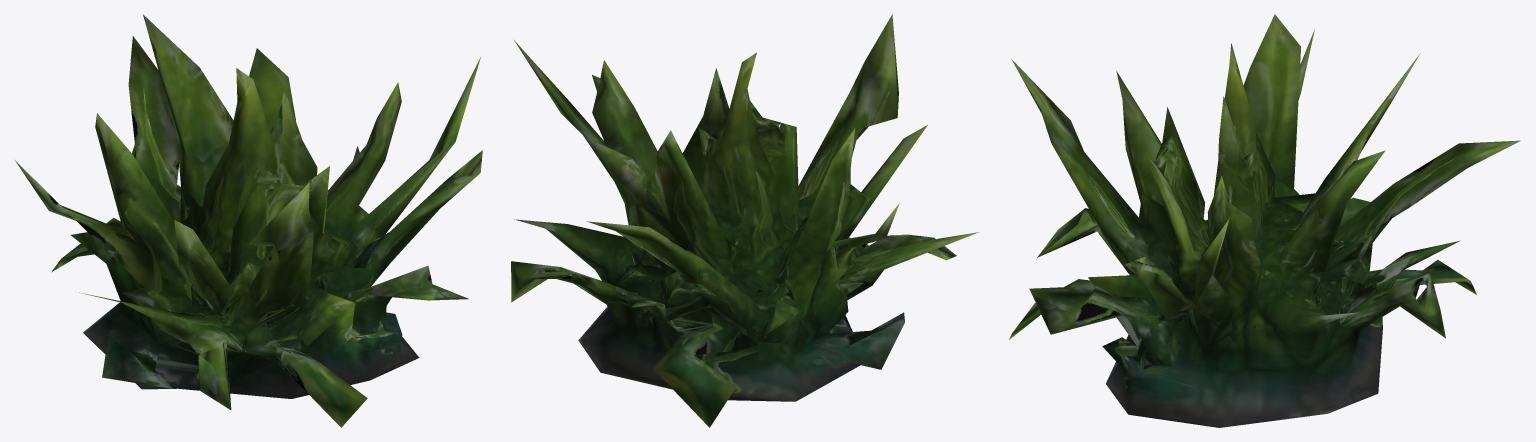
The model's file is grass_01.glb.
The picture shows the model from 3 angles, left to right: view 1: azimuth 30°, elevation 25°; view 2: azimuth 150°, elevation 25°; view 3: azimuth 270°, elevation 25°; orthographic projection. The views are drawn at different scales.
Parts seen in each view (by area): view 1: mesh; view 2: mesh; view 3: mesh.
Part boxes in pixels (left/top/right/bottom): mesh: left=15, top=14, right=482, bottom=427; mesh: left=511, top=14, right=979, bottom=427; mesh: left=1009, top=14, right=1520, bottom=427.
Size of the model in its own units: 0.9931 by 0.6435 by 0.9569.
1 material, 1 textured.
